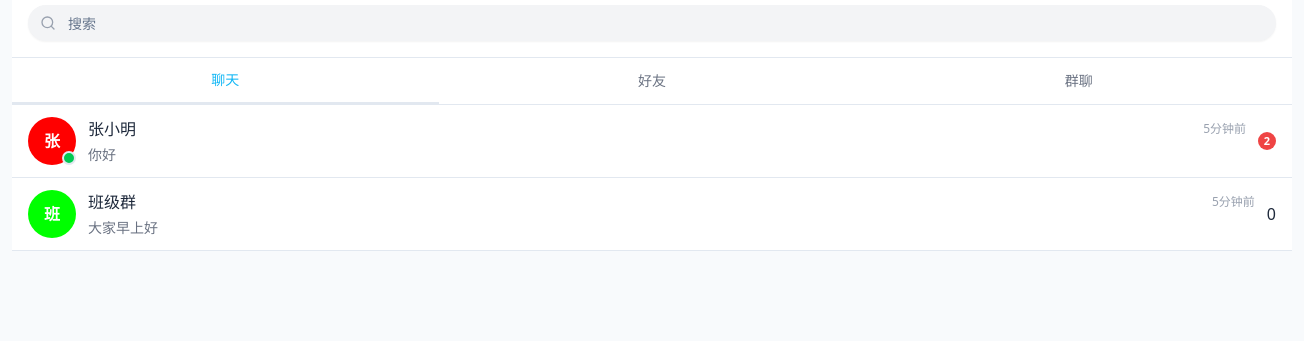
ChatList › switches to friends tab and displays friends
Click the button "好友" at (652, 81), box x1=439 y1=58 x2=865 y2=104
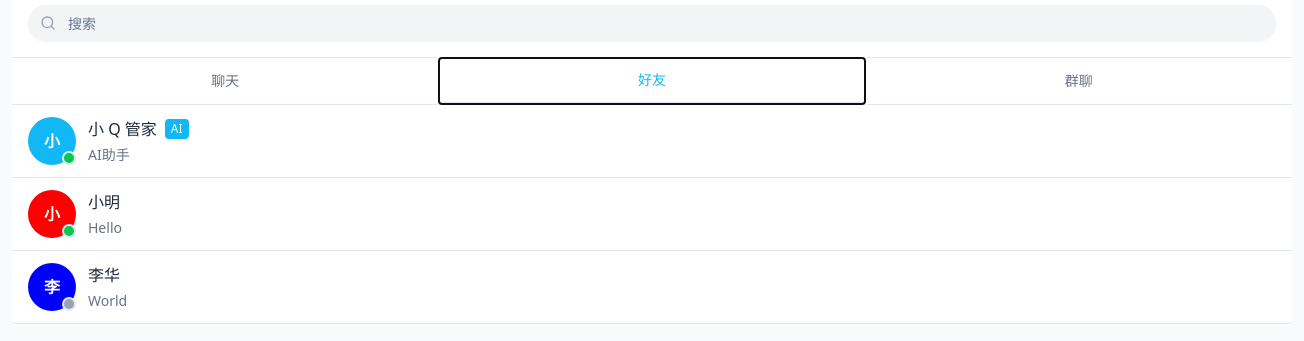
expect the text "小明" is shown: met, box x1=88 y1=190 x2=120 y2=214
expect the text "李华" is shown: met, box x1=88 y1=263 x2=120 y2=287
